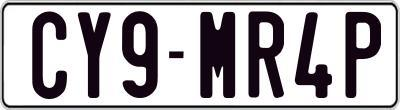4: (292, 9, 332, 100)
9: (122, 11, 161, 101)
C: (29, 9, 69, 97)
M: (197, 10, 234, 96)
P: (344, 10, 385, 101)
R: (249, 9, 289, 98)
Y: (78, 10, 112, 96)
